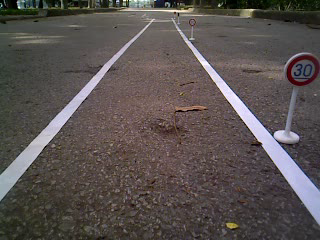limit 30: (283, 50, 320, 88)
